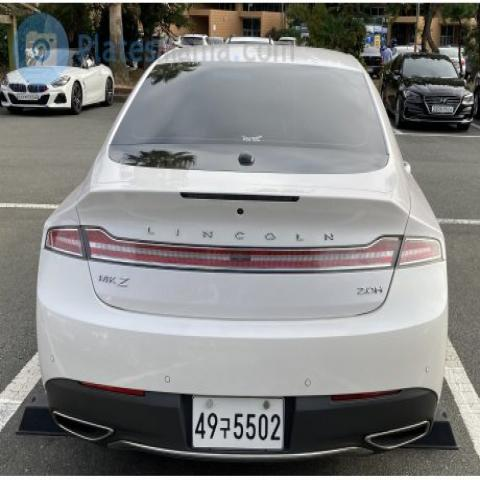LP: (188, 381, 291, 463)
